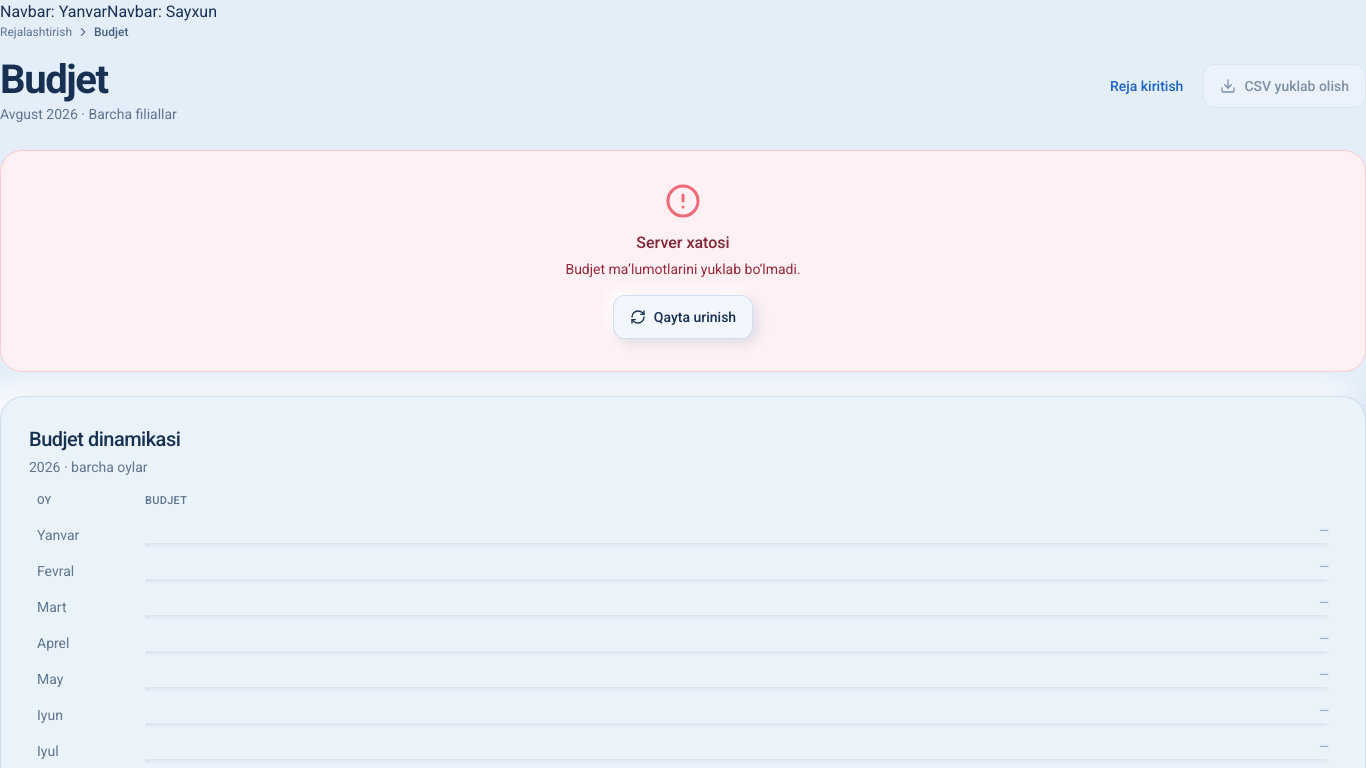
it: Budjet sahifasi › API xatosi texnik tafsilotlarni oshkor qilmaydi va qayta urinish ishlaydi
The width and height of the screenshot is (1366, 768).
Expected: the text "Budjet ma’lumotlarini yuklab bo‘lmadi." is shown, top-left (565, 259), bottom-right (801, 279)
Click the button "Qayta urinish": (683, 317) top-left (613, 295), bottom-right (753, 339)
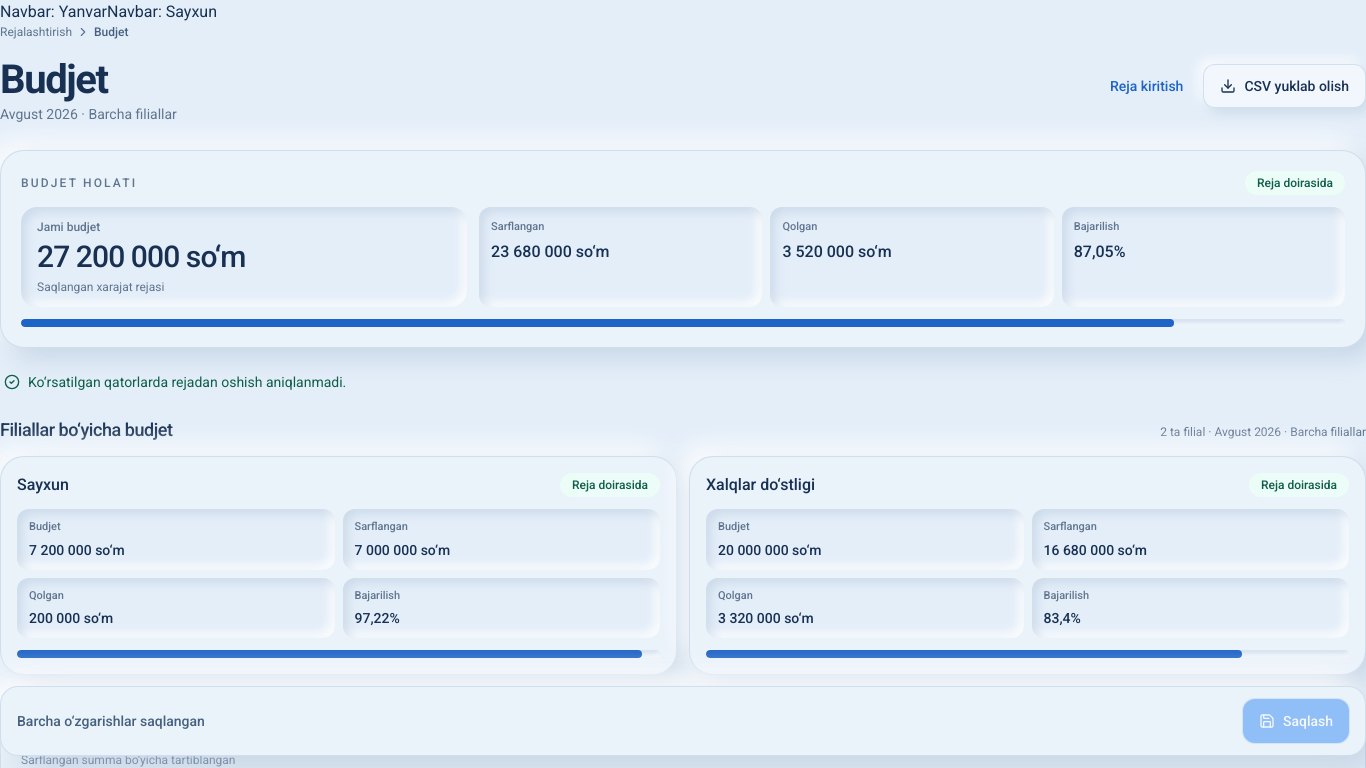
Result: the element "Budjet holati" is shown at top-left (0, 150), bottom-right (1365, 348)
